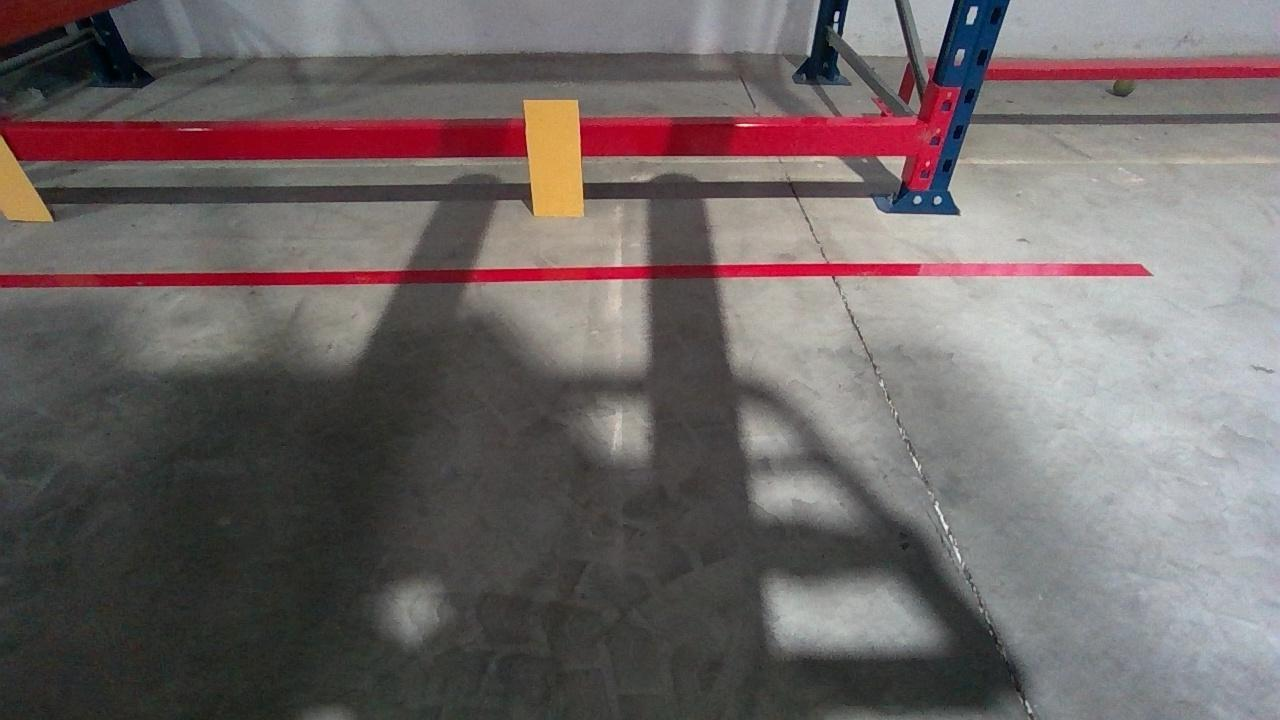orange_strip: (521, 99, 584, 216), (0, 136, 48, 221)
red_line: (0, 258, 1151, 288)
